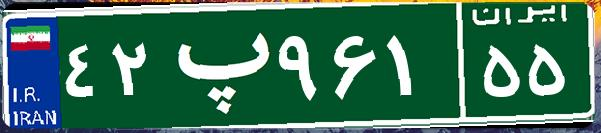1: (385, 28, 445, 110)
2: (110, 28, 158, 105)
4: (57, 26, 110, 107)
5: (475, 38, 525, 113), (525, 38, 570, 115)
6: (330, 28, 385, 110)
9: (273, 28, 330, 110)
پ: (158, 15, 273, 115)
